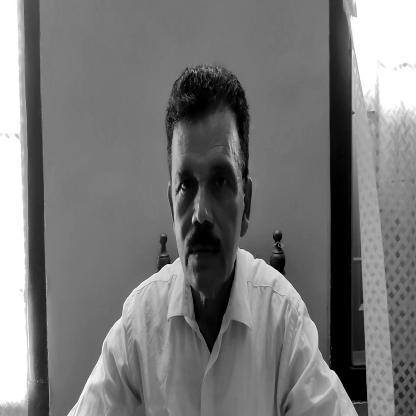Normal: (162, 70, 255, 293)
